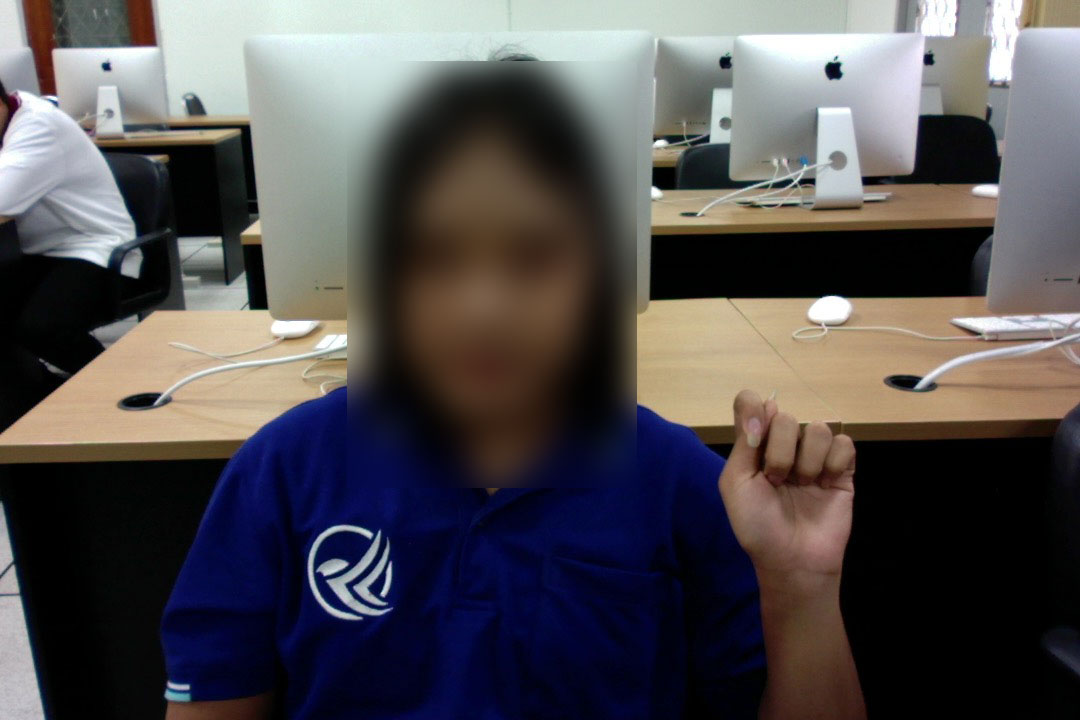tor: (710, 389, 862, 595)
